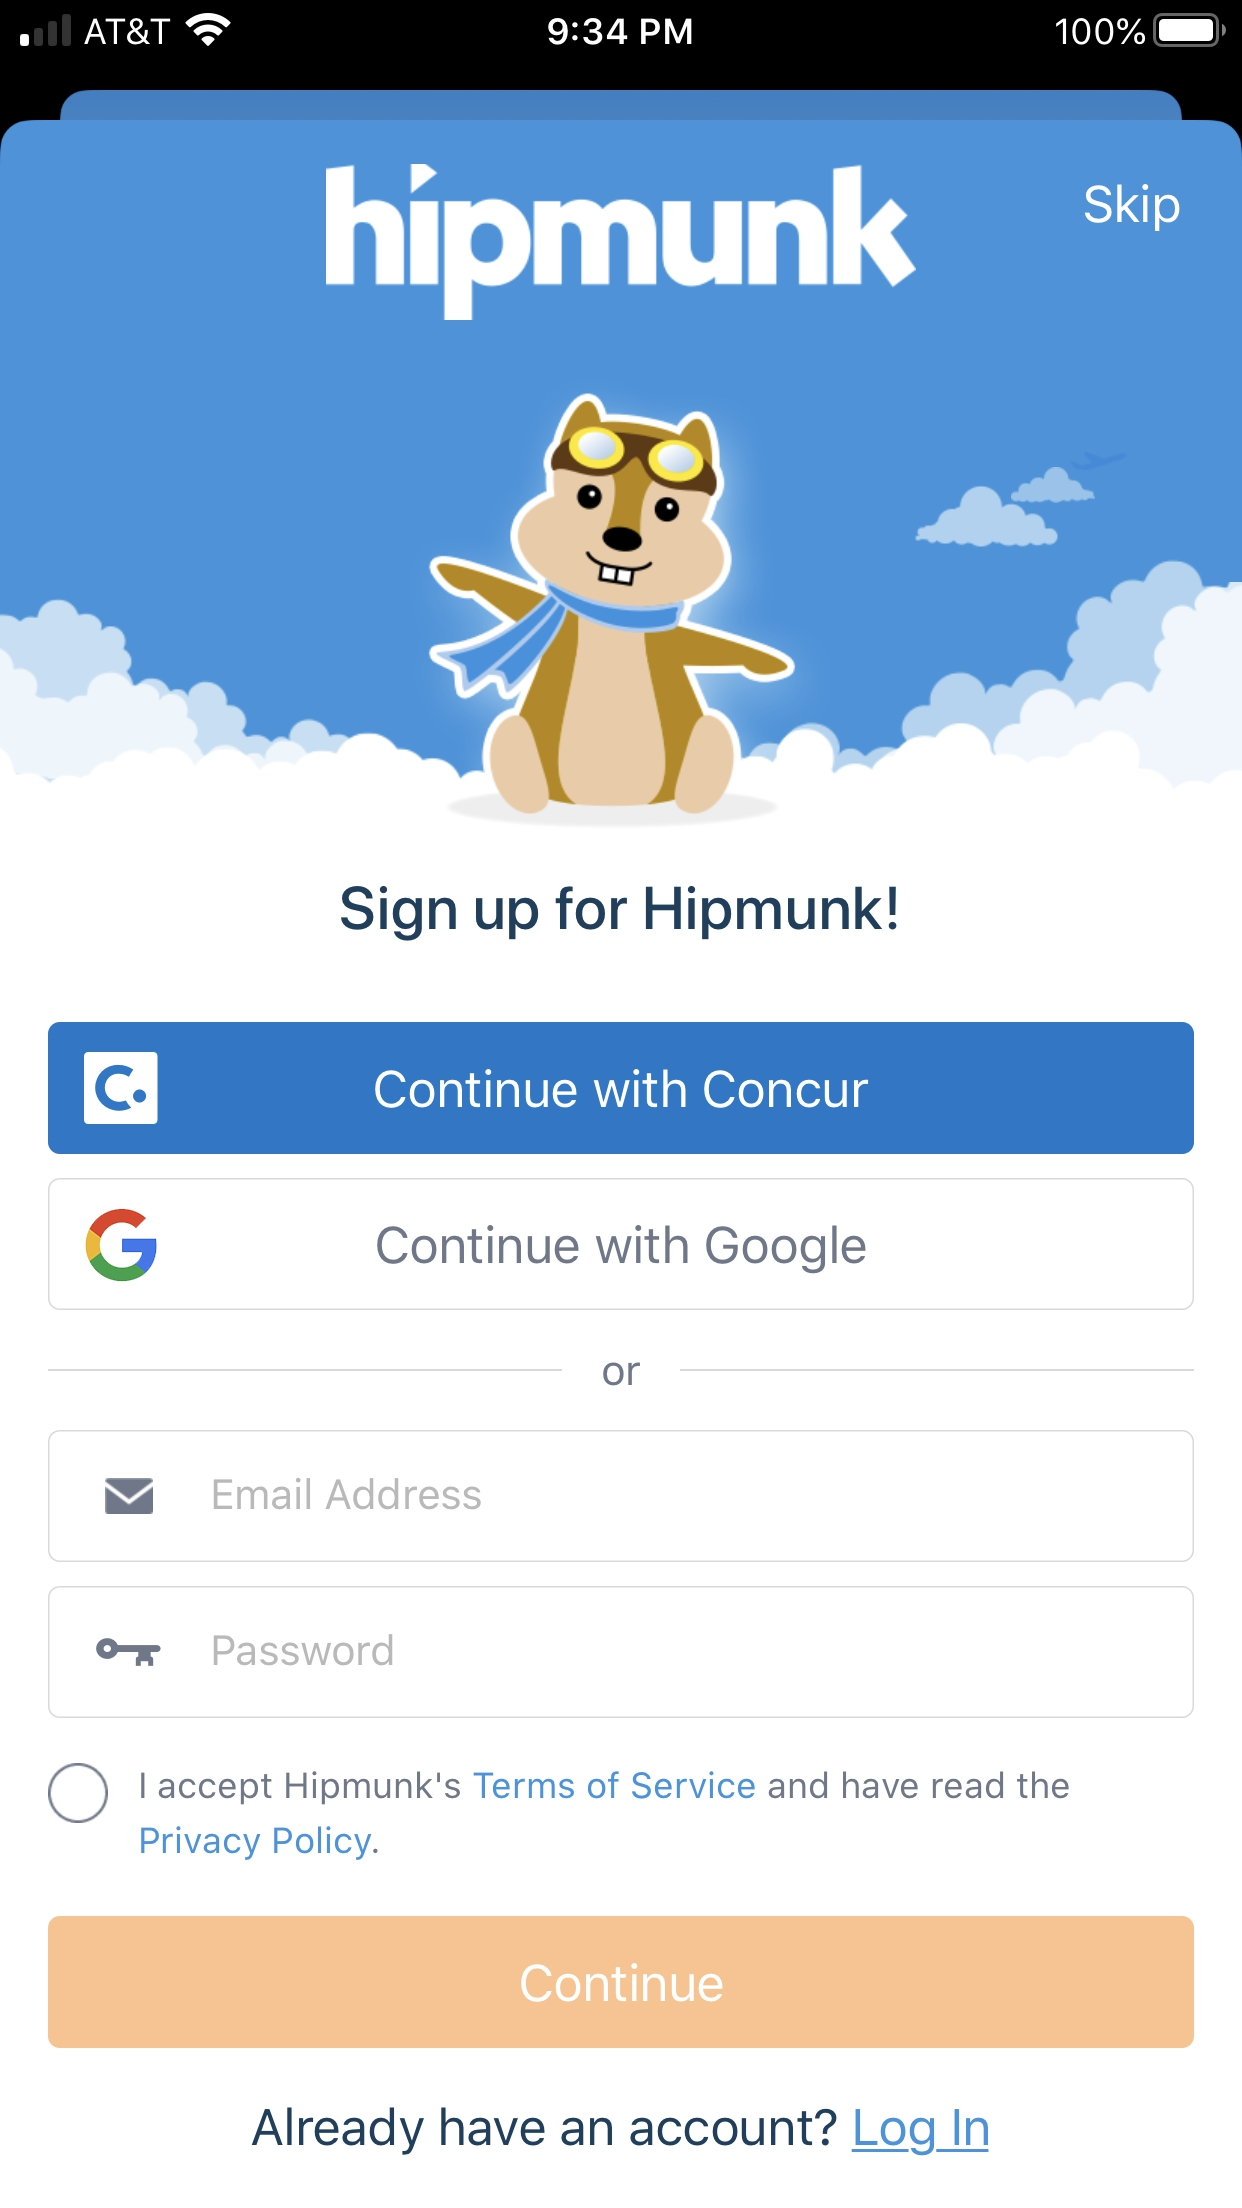CheckedTextView: (47, 1761, 1071, 1862)
EditText: (49, 1430, 1193, 1562), (49, 1586, 1193, 1718)
Icon: (97, 1638, 162, 1667), (106, 1479, 155, 1513)
Image: (2, 120, 1242, 830), (326, 162, 916, 321)
Text: (141, 1771, 1069, 1861), (252, 2106, 989, 2156), (341, 886, 898, 942), (214, 1479, 482, 1510), (214, 1633, 394, 1667), (1084, 185, 1180, 234), (604, 1362, 641, 1388)
TextButton: (49, 1022, 1193, 1156), (49, 1915, 1193, 2047), (49, 1178, 1193, 1310)
UpperTaskBar: (2, 2, 1242, 47)
